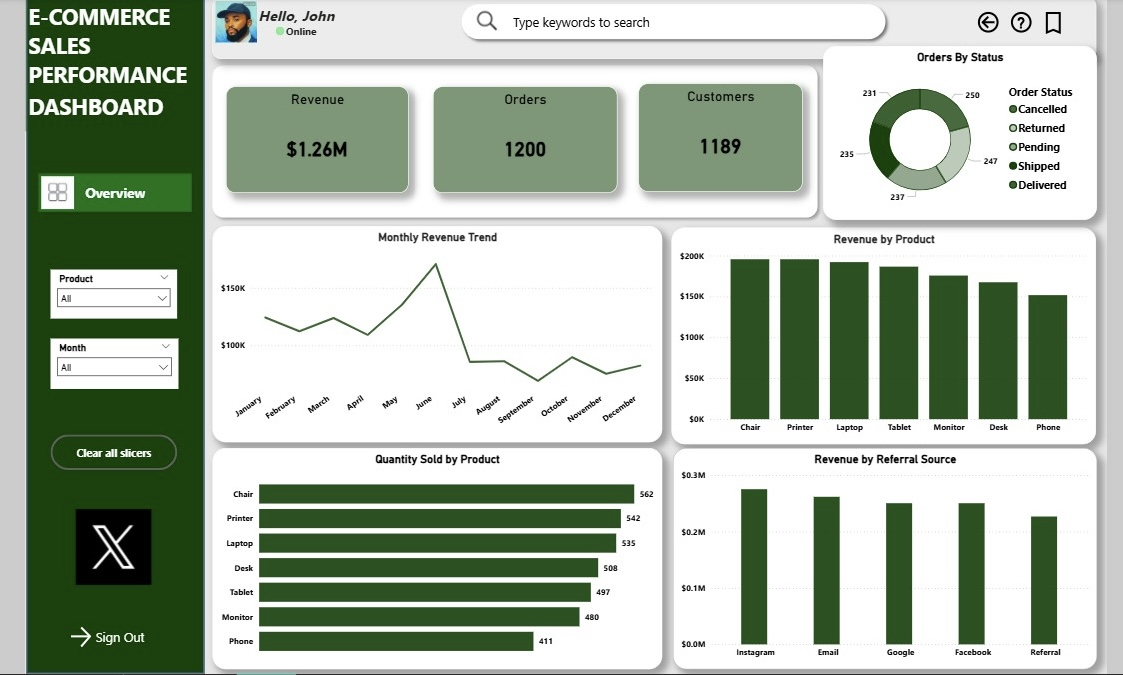

The page's visual inventory and layout, read from the dashboard file:
{"tool":"powerbi","page":{"name":"Page 1","canvas":[1600,1000],"ordinal":0},"visuals":[{"type":"shape","box":[267.5,90,912.5,242.5],"z":0},{"type":"textbox","box":[277.5,0,1307.5,90],"z":1000},{"type":"lineChart","title":"Monthly Revenue Trend","fields":{"Category":["Table1.Date.Variation.Date Hierarchy.Month"],"Y":["Sum(Table1.Total Price)"]},"box":[277.5,337.5,665,320],"z":2000},{"type":"columnChart","title":"Revenue by Product","fields":{"Y":["Sum(Table1.Total Price)"],"Category":["Table1.Product"]},"box":[956.4,338.5,628.2,320.5],"z":3000},{"type":"clusteredBarChart","title":"Quantity Sold by Product","fields":{"Y":["Sum(Table1.Quantity)"],"Category":["Table1.Product"]},"box":[277.5,665,665,327.5],"z":4000},{"type":"shape","box":[3.1,0,263.4,1000],"z":5000},{"type":"ribbonChart","title":"Revenue by Referral Source","fields":{"Y":["Sum(Table1.Total Price)"],"Category":["Table1.Referral Source"]},"box":[957.5,665,627.5,327.5],"z":6000},{"type":"image","box":[242.9,5.3,141.5,61.4],"z":7000},{"type":"donutChart","title":"Orders By Status","fields":{"Category":["Table1.Order Status"],"Y":["CountNonNull(Table1.OrderID)"]},"box":[1180,70,405,257.5],"z":8000},{"type":"card","title":"Revenue","fields":{"Values":["Sum(Table1.Total Price)"]},"box":[297.5,130,270,157.5],"z":9000},{"type":"card","title":"Orders","fields":{"Values":["Count(Table1.OrderID)"]},"box":[602.5,130,272.5,157.5],"z":10000},{"type":"card","title":"Customers ","fields":{"Values":["Count(Table1.CustomerID)"]},"box":[907.5,127.5,242.5,160],"z":11000},{"type":"slicer","fields":{"Values":["Table1.Date.Variation.Date Hierarchy.Month"]},"box":[37.4,504.5,189.5,74.7],"z":12000},{"type":"slicer","fields":{"Values":["Table1.Product"]},"box":[37.5,402.5,187.5,72.5],"z":13000},{"type":"shape","box":[637.5,0,645,70],"z":14000},{"type":"actionButton","box":[1405.2,15.8,40.7,40.7],"z":15000},{"type":"actionButton","box":[1500,15,45,42.5],"z":16000},{"type":"textbox","box":[0,0,262.5,197.5],"z":17000},{"type":"shape","box":[370.5,42.9,13.6,13.6],"z":18000},{"type":"actionButton","box":[61.4,926.2,157.5,40],"z":19000},{"type":"actionButton","box":[37.5,645,187.5,52.5],"z":20000},{"type":"actionButton","box":[70,752.5,120,120],"z":21000},{"type":"actionButton","box":[1452.6,15.8,72.3,40.7],"z":22000},{"type":"actionButton","box":[650.6,0,345.6,70],"z":23000},{"type":"actionButton","box":[12.5,252.5,240,70],"z":24000}]}

Visuals, with their boxes on the page's 1600x1000 design canvas (x1, y1, x2, y2). These are canvas units, not pixel positions in the 1123x675 screenshot, which may show the page scaled, cropped or inside an application window:
shape: 268, 90, 1180, 332
textbox: 278, 0, 1585, 90
"Monthly Revenue Trend" lineChart: 278, 338, 942, 658
"Revenue by Product" columnChart: 956, 338, 1585, 659
"Quantity Sold by Product" clusteredBarChart: 278, 665, 942, 992
shape: 3, 0, 266, 1000
"Revenue by Referral Source" ribbonChart: 958, 665, 1585, 992
image: 243, 5, 384, 67
"Orders By Status" donutChart: 1180, 70, 1585, 328
"Revenue" card: 298, 130, 568, 288
"Orders" card: 602, 130, 875, 288
"Customers " card: 908, 128, 1150, 288
slicer - Table1.Date.Variation.Date Hierarchy.Month: 37, 504, 227, 579
slicer - Table1.Product: 38, 402, 225, 475
shape: 638, 0, 1282, 70
actionButton: 1405, 16, 1446, 56
actionButton: 1500, 15, 1545, 58
textbox: 0, 0, 262, 198
shape: 370, 43, 384, 56
actionButton: 61, 926, 219, 966
actionButton: 38, 645, 225, 698
actionButton: 70, 752, 190, 872
actionButton: 1453, 16, 1525, 56
actionButton: 651, 0, 996, 70
actionButton: 12, 252, 252, 322
